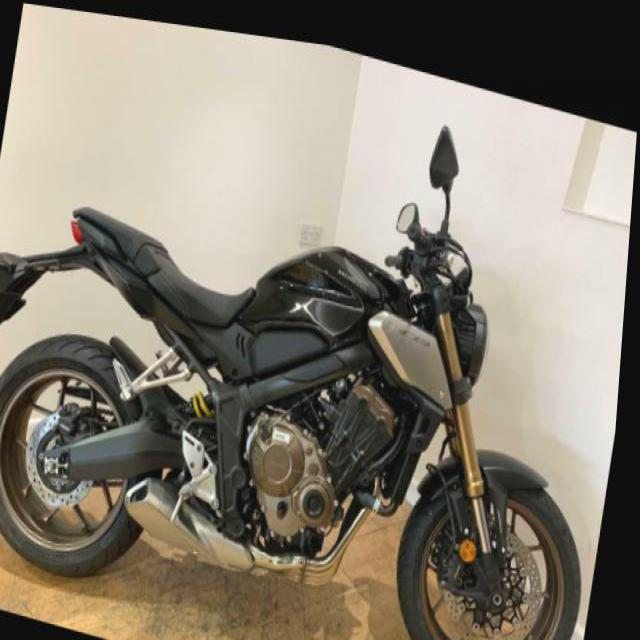CB650R: (0, 143, 631, 639)
